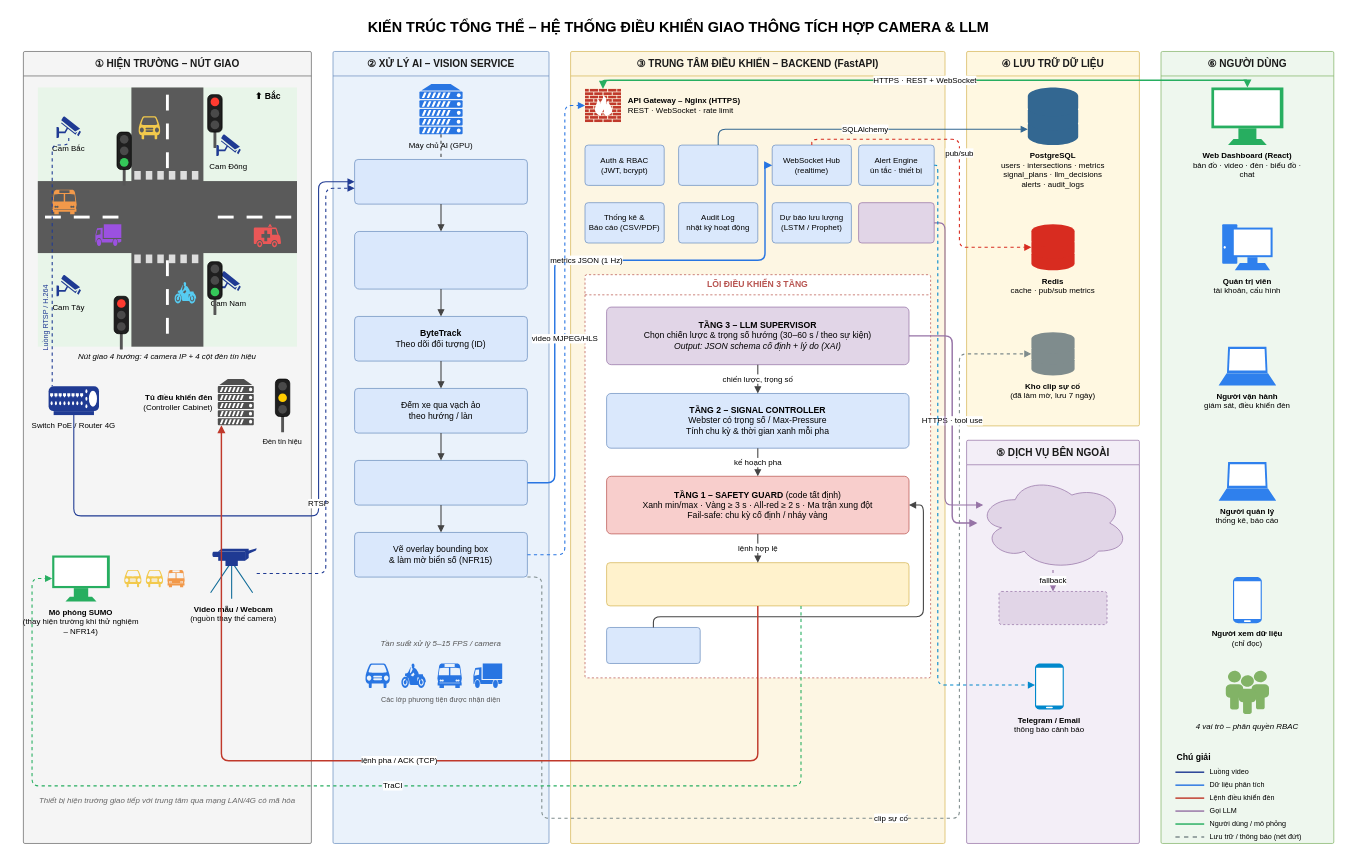
Some shapes in this 1346 by 856 pixel diagram are drawn without their labels. The shapes that lost their labels are listed below. From the top down, each one's centre as x and y in pixels, then its label:
At [440,181]: "Giải mã luồng RTSP (OpenCV / FFmpeg)".
At [718,164]: "Quản lý nút giao, camera, pha đèn".
At [896,222]: "Trợ lý vận hành LLM chat · tool use · báo cáo tự động".
At [440,260]: "YOLOv8 / YOLO11 Nhận diện & phân loại: ô tô · xe máy · buýt · tải · xe ưu tiên".
At [440,482]: "Tính mật độ, hàng chờ, thời gian chờ".
At [1053,523]: "Claude API Haiku 5.5 (realtime) Sonnet 5.5 (chat, báo cáo)".
At [757,584]: "CONTROLLER ADAPTER Giả lập · SUMO/TraCI · NTCIP (phần cứng)".
At [1052,608]: "Ollama (LLM cục bộ) dự phòng offline".
At [653,645]: "Lệnh thủ công người vận hành".
